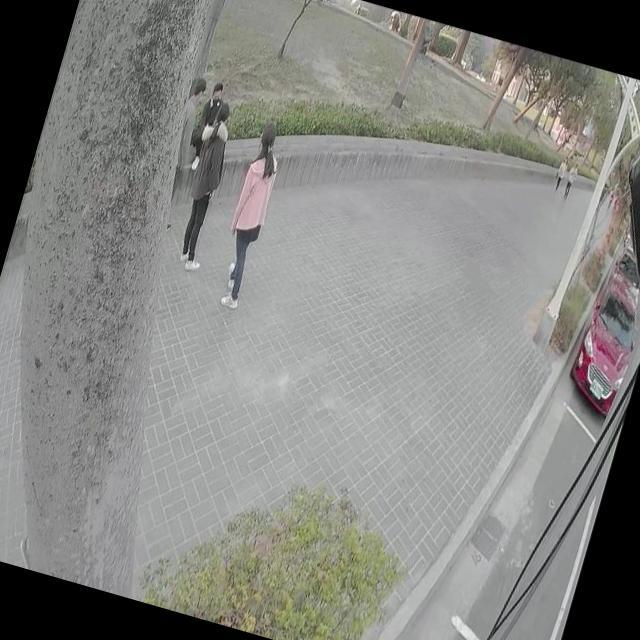person: (210, 117, 290, 309), (167, 96, 242, 268), (162, 79, 209, 186), (186, 79, 226, 167), (560, 156, 580, 198), (551, 152, 569, 192)
